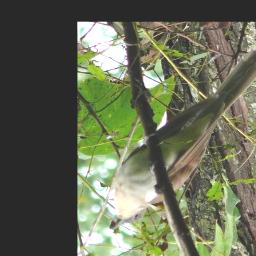Cuckoo: (109, 47, 256, 230)
